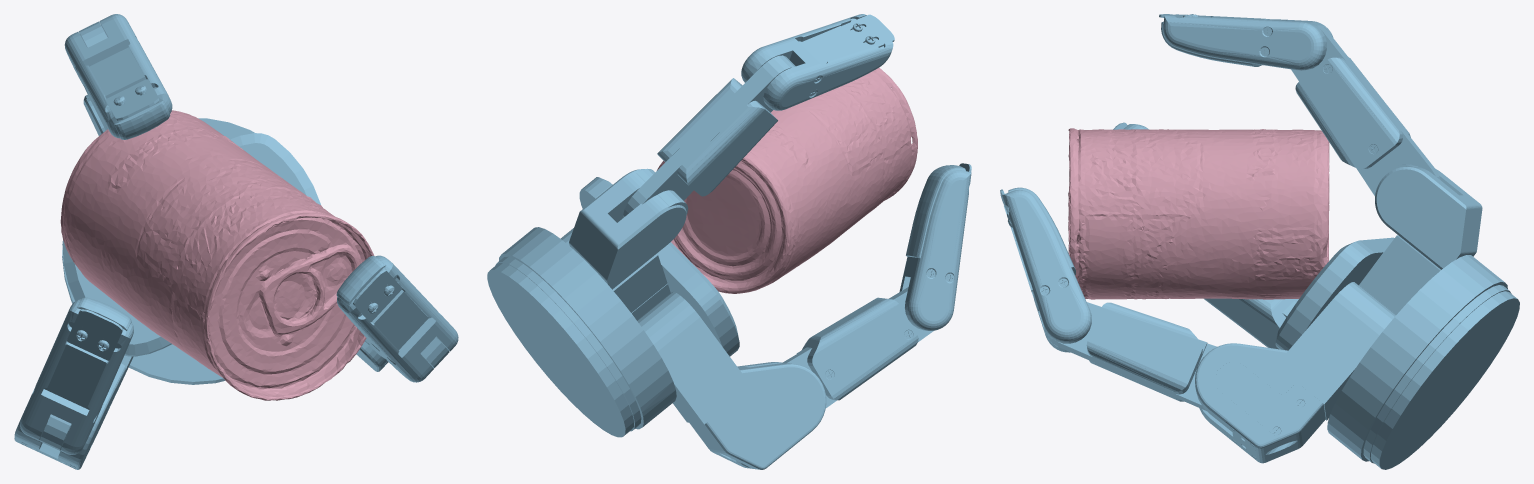
The picture shows the model from 3 angles, left to right: view 1: azimuth 30°, elevation 25°; view 2: azimuth 150°, elevation 25°; view 3: azimuth 270°, elevation 25°; orthographic projection. The views are drawn at different scales.
Visible parts, largest first — view 1: tomato_soup_can.stl, world; view 2: world, tomato_soup_can.stl; view 3: world, tomato_soup_can.stl.
Boxes of the visible parts, x1,y1,x2,y2 form: tomato_soup_can.stl: [60, 110, 374, 400]; world: [14, 14, 458, 469]; world: [487, 14, 971, 469]; tomato_soup_can.stl: [657, 67, 917, 293]; world: [1000, 14, 1519, 469]; tomato_soup_can.stl: [1068, 128, 1329, 299].
Size of the model in its own units: 0.1712 by 0.1754 by 0.2027.
